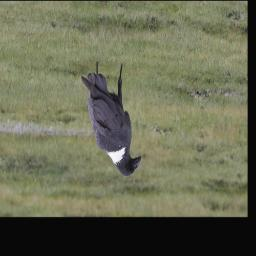Crow: (81, 63, 141, 177)
